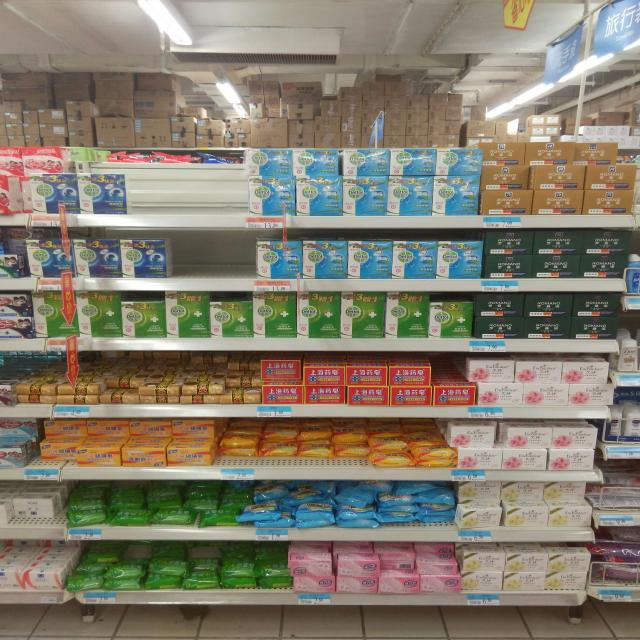void: (188, 166, 246, 226), (131, 165, 188, 226), (212, 236, 258, 291), (167, 236, 212, 291)
